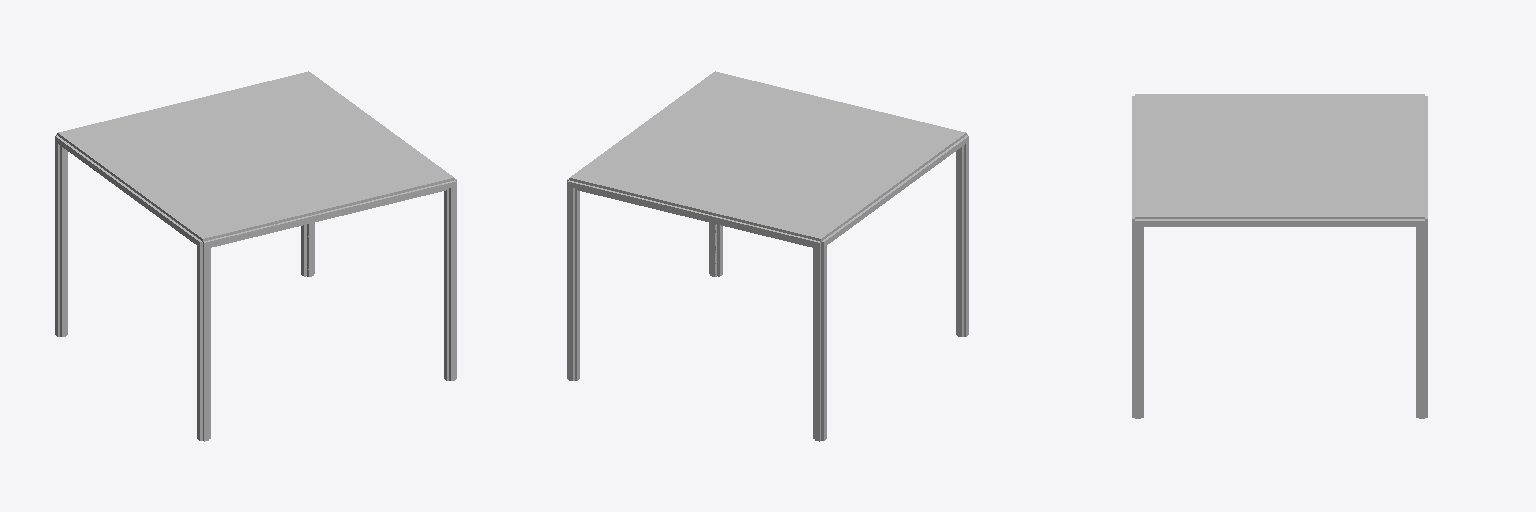
The model's file is table.obj.
The picture shows the model from 3 angles: view 1: azimuth 30°, elevation 25°; view 2: azimuth 150°, elevation 25°; view 3: azimuth 270°, elevation 25°; orthographic projection.
Visible parts, largest first — view 1: object 1; view 2: object 1; view 3: object 1.
Boxes of the visible parts, x1=… form: object 1: x1=55, y1=71, x2=456, y2=441; object 1: x1=567, y1=71, x2=968, y2=441; object 1: x1=1132, y1=94, x2=1427, y2=418.
Size of the model in its own units: 10 by 7.5 by 10.